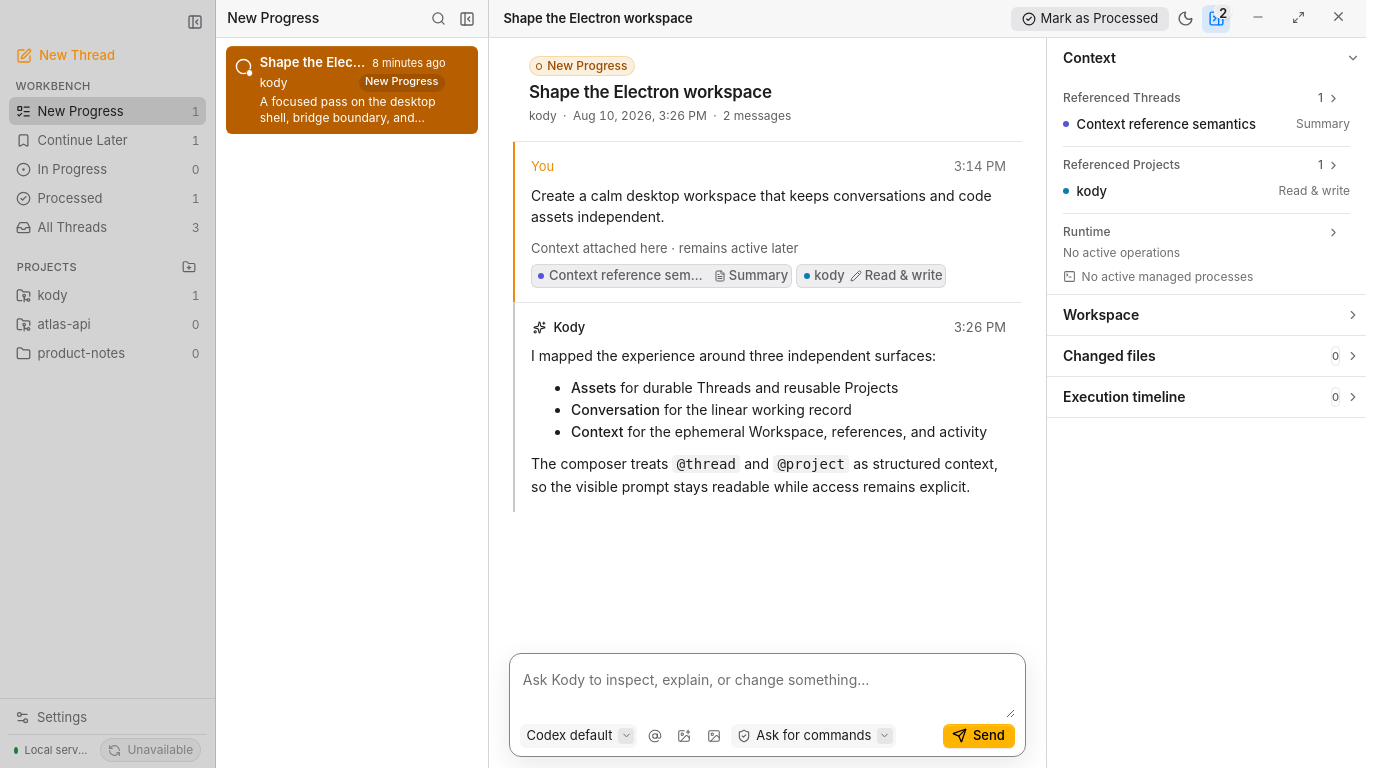
Test case: Thread todo workflow › keeps the active conversation open while moving it between workflow views
The image size is (1378, 768).
Click the button "Mark as Processed" at (1090, 18), box [1011, 6, 1169, 30]
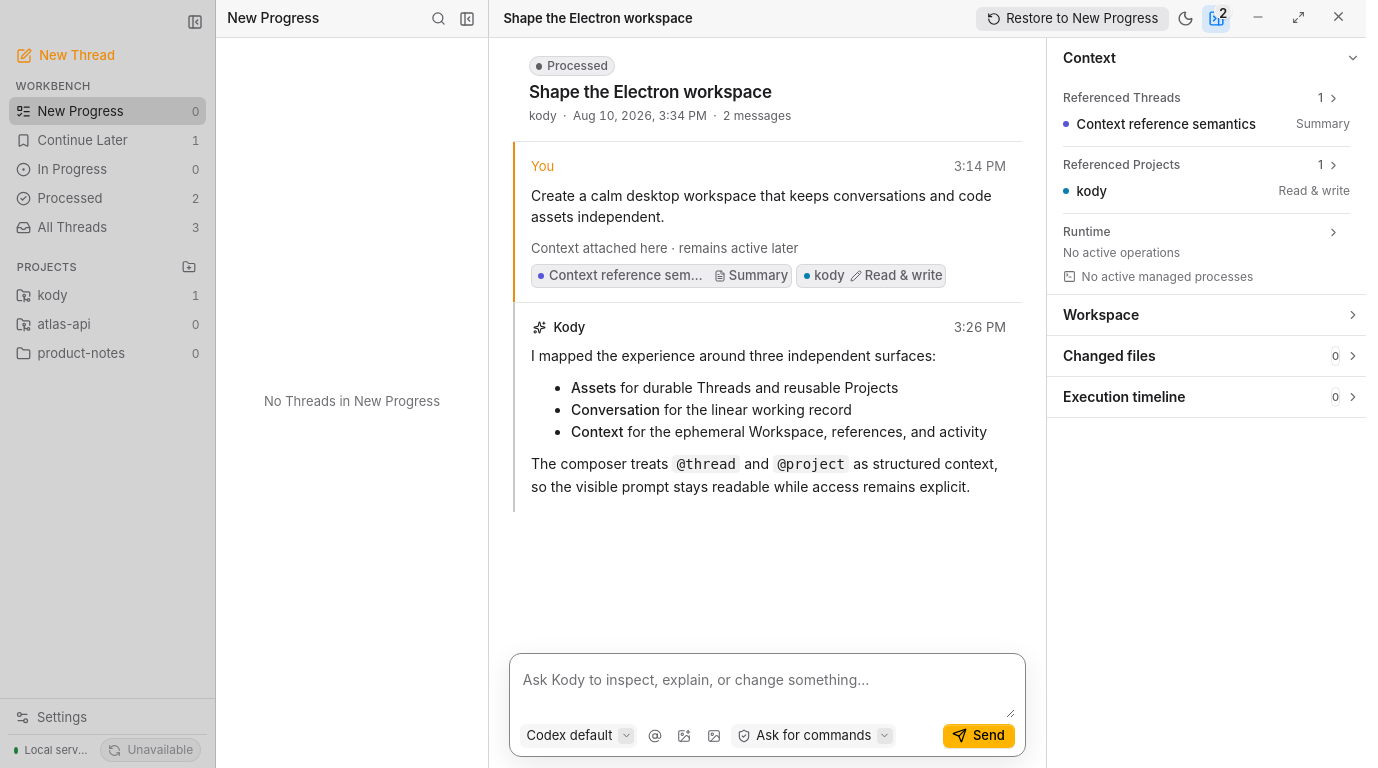
Expected: the 1st heading "Shape the Electron workspace" is shown, [503, 11, 693, 26]
Now the button "Restore to New Progress" is shown, box [976, 6, 1169, 30]
Now the text "No Threads in New Progress" is shown, box [264, 393, 440, 409]
Click the button "Processed 2" at (108, 198), box [9, 184, 206, 212]
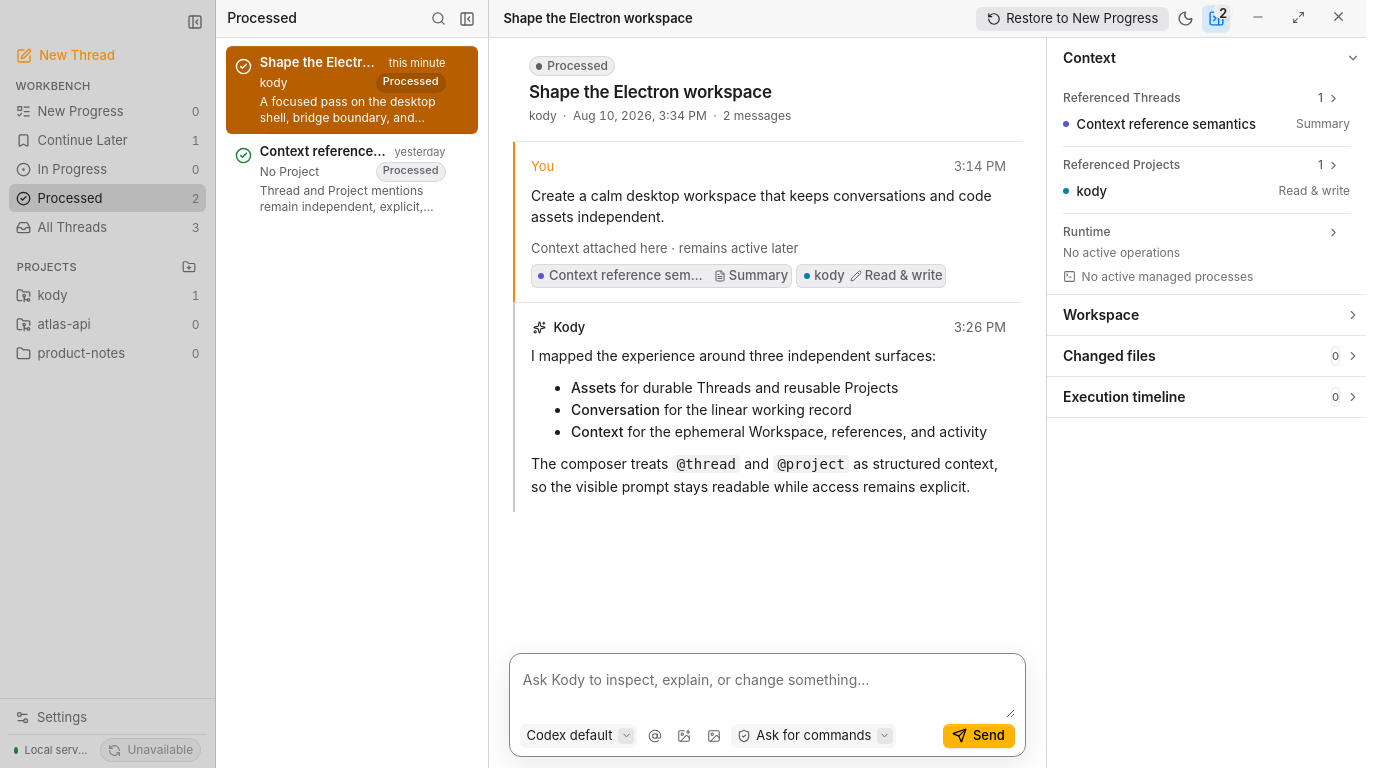
Now the text "Shape the Electron workspace" is shown, box [260, 54, 382, 71]
Click the button "Restore to New Progress" at (1073, 18), box [976, 6, 1169, 30]
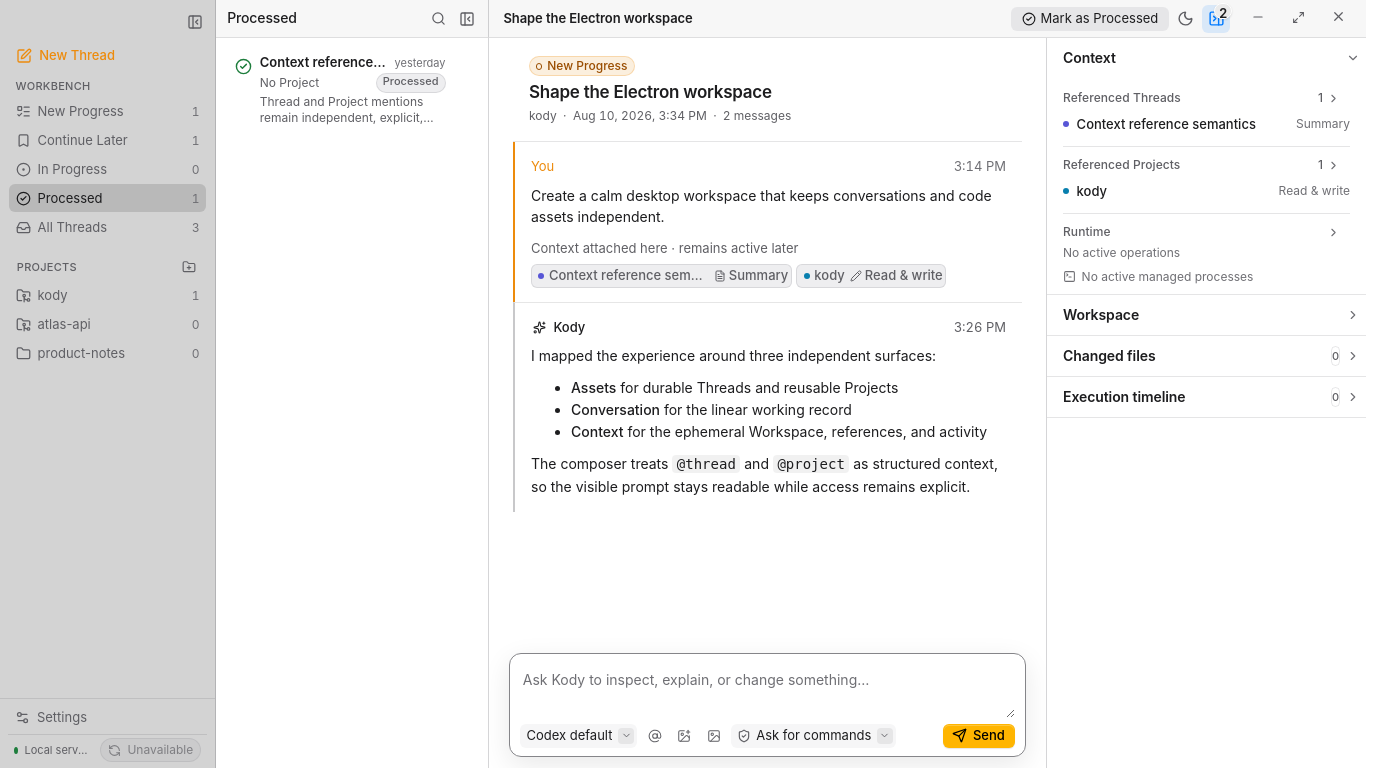
Now the button "Mark as Processed" is shown, box [1011, 6, 1169, 30]
